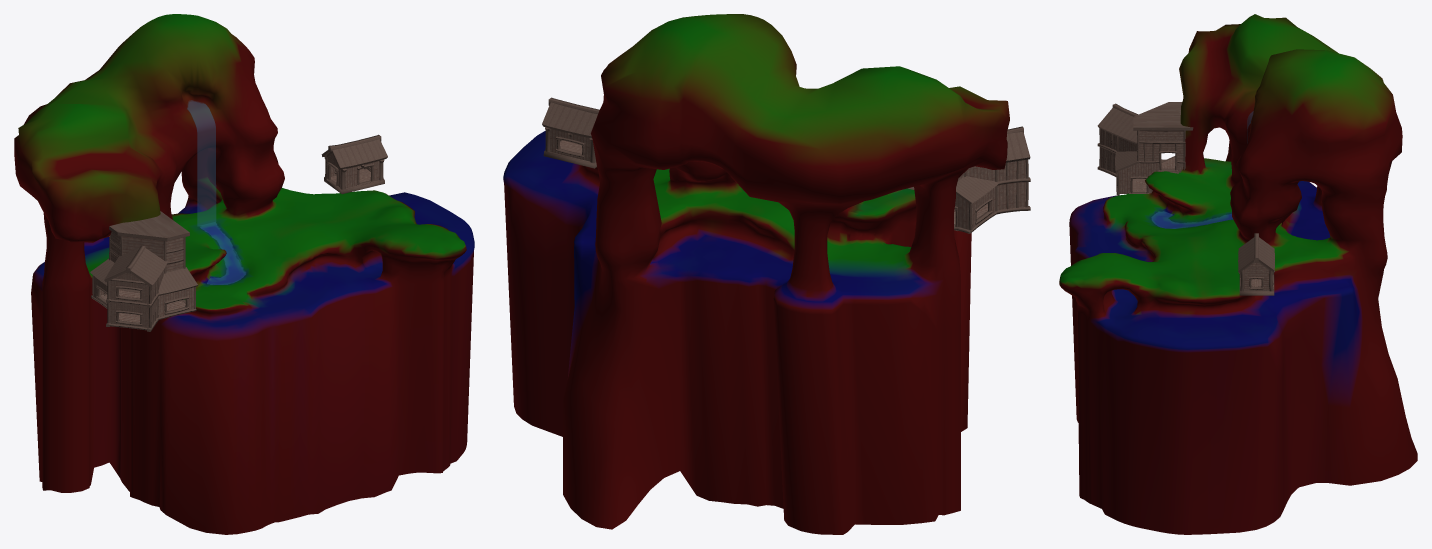
File: Coast Terrain.fbx
3 renders of one model, left to right at view 1: azimuth 30°, elevation 25°; view 2: azimuth 150°, elevation 25°; view 3: azimuth 270°, elevation 25°, orthographic. The views are drawn at different scales.
Visible parts, largest first — view 1: Terrain, Structure, Waterfall, Structure Shed; view 2: Terrain, Structure, Structure Shed; view 3: Terrain, Structure, Structure Shed, Waterfall.
Part boxes in pixels (<box>): Terrain: <box>14,14,474,534</box>; Structure: <box>90,211,197,331</box>; Waterfall: <box>187,100,245,284</box>; Structure Shed: <box>321,134,387,194</box>; Terrain: <box>503,14,1009,534</box>; Structure: <box>908,126,1030,233</box>; Structure Shed: <box>542,97,599,168</box>; Terrain: <box>1059,14,1417,534</box>; Structure: <box>1097,102,1193,195</box>; Structure Shed: <box>1238,233,1274,295</box>; Waterfall: <box>1151,111,1253,228</box>.
Bounding box in the file's own units: 28321 × 26507 × 22130.
